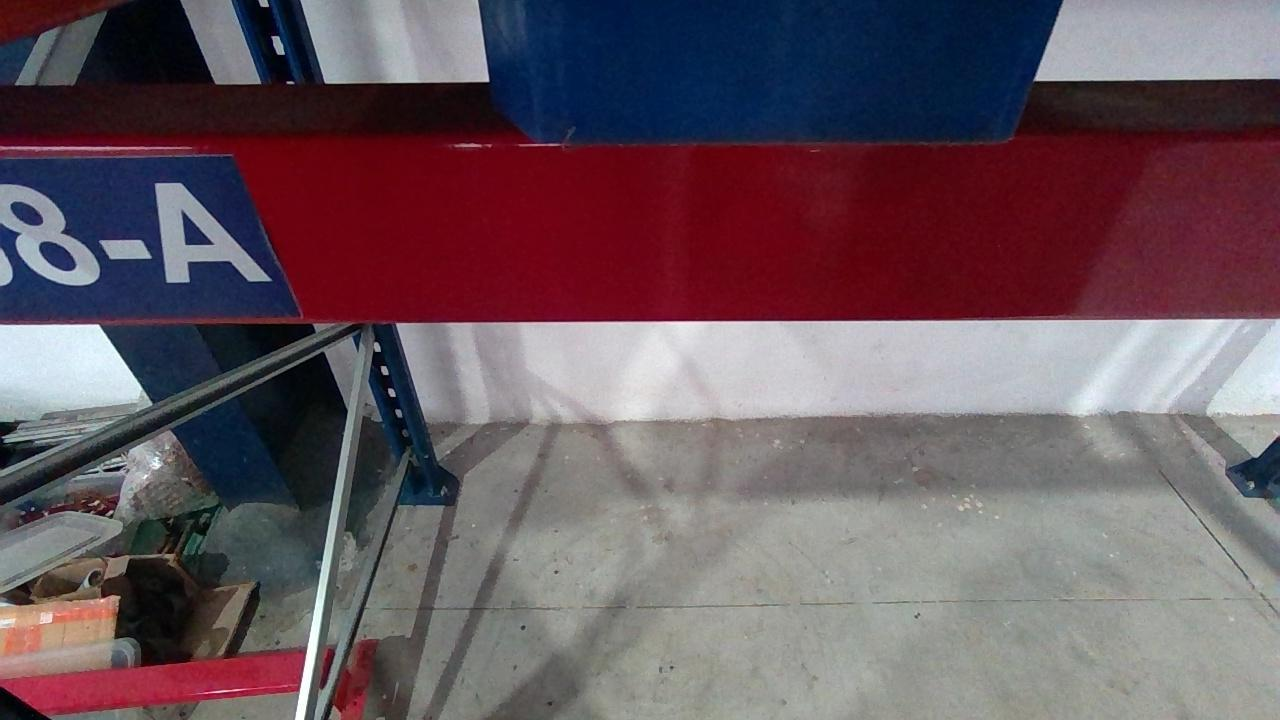h_rack: (0, 123, 1280, 323)
